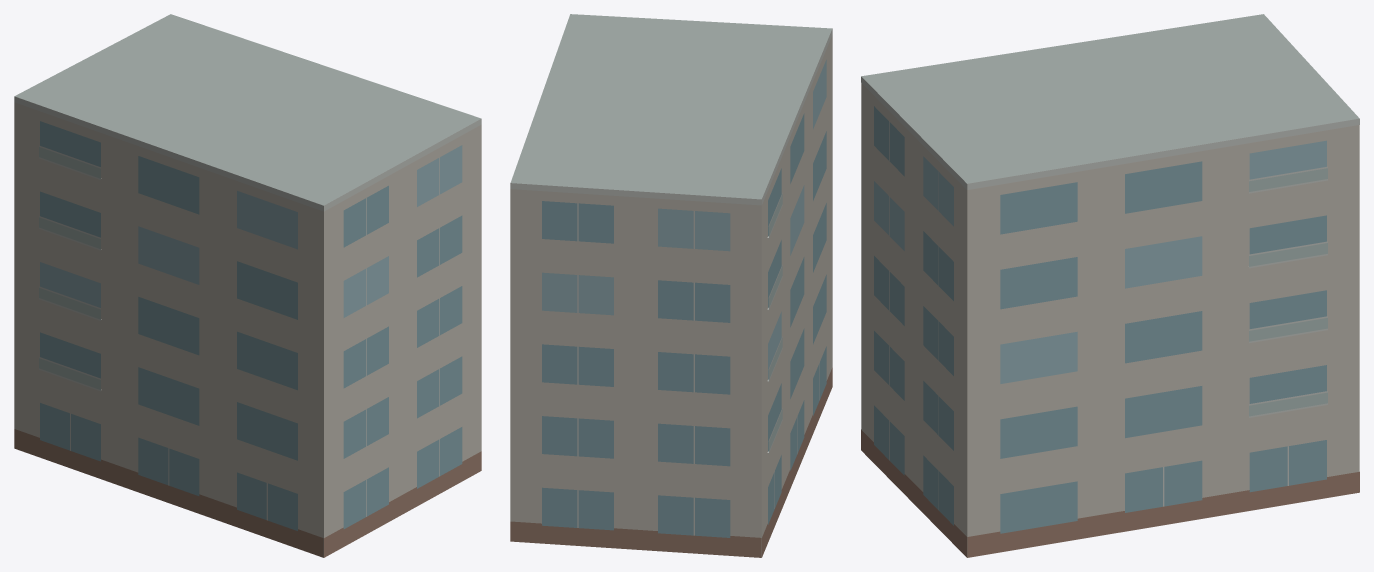
File: survey-upis-32881900.glb
The picture shows the model from 3 angles, left to right: view 1: azimuth 30°, elevation 25°; view 2: azimuth 150°, elevation 25°; view 3: azimuth 270°, elevation 25°; orthographic projection. The views are drawn at different scales.
Parts seen in each view (by area): view 1: survey-upis-32881900.tmp; view 2: survey-upis-32881900.tmp; view 3: survey-upis-32881900.tmp.
Part boxes in pixels (<box>): survey-upis-32881900.tmp: <box>14,14,481,557</box>; survey-upis-32881900.tmp: <box>510,14,832,557</box>; survey-upis-32881900.tmp: <box>861,14,1359,557</box>.
Bounding box in the file's own units: 14.13 × 14.5 × 17.53.
